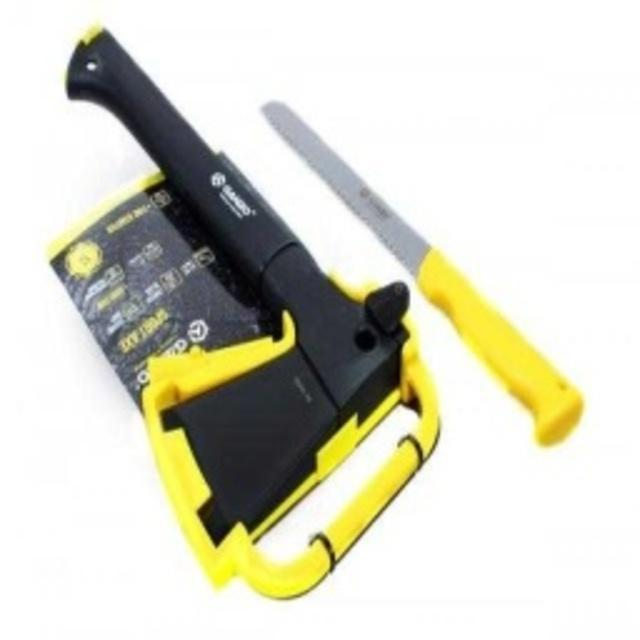ax: (54, 20, 450, 605)
